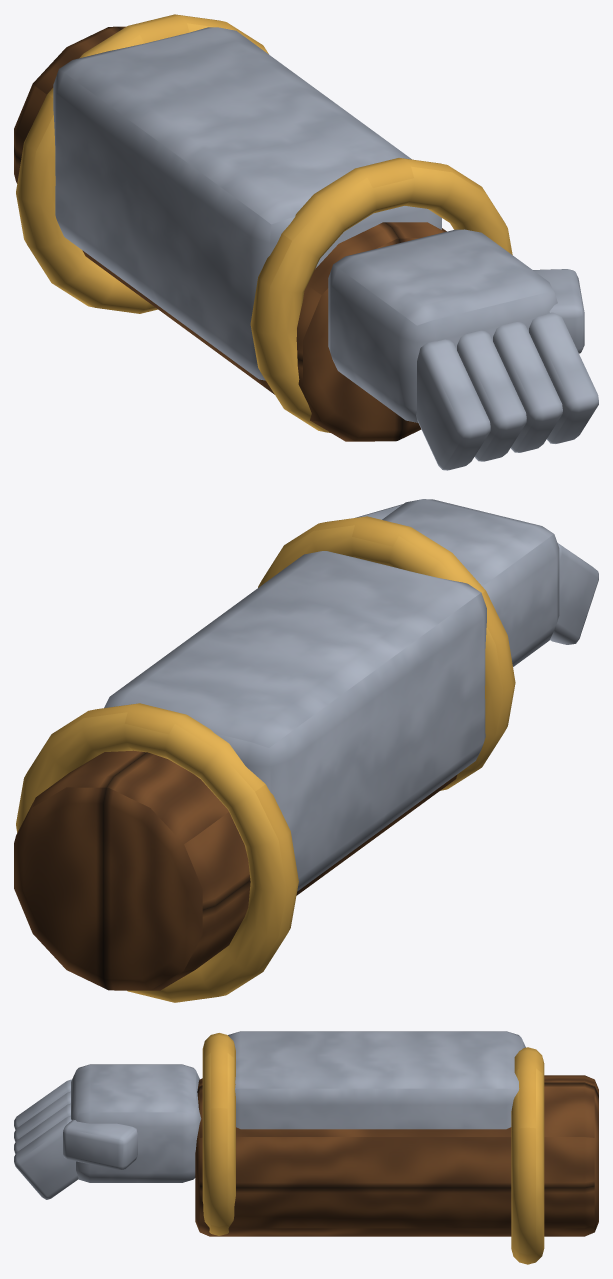
Rendered from fp_gauntlet_left.glb.
3 views of the same model, one above another, from view 1: azimuth 30°, elevation 25°; view 2: azimuth 150°, elevation 25°; view 3: azimuth 270°, elevation 25° (orthographic). The views are drawn at different scales.
Visible parts, largest first — view 1: Vambrace, HandBack, CuffTrim, ForearmSleeve, ElbowTrim, Finger0, Finger1, Finger2, Finger3, Thumb; view 2: Vambrace, ForearmSleeve, ElbowTrim, HandBack, CuffTrim, Finger0; view 3: ForearmSleeve, Vambrace, HandBack, ElbowTrim, CuffTrim, Thumb, Finger3, Finger0, Finger2, Finger1.
Part boxes in pixels (x1,y1,x2,y2): Vambrace: (53, 27, 441, 380); HandBack: (328, 229, 557, 422); CuffTrim: (250, 158, 512, 432); ForearmSleeve: (14, 26, 446, 441); ElbowTrim: (16, 14, 268, 313); Finger0: (416, 339, 490, 470); Finger1: (457, 330, 526, 461); Finger2: (493, 322, 562, 452); Finger3: (529, 312, 598, 443); Thumb: (533, 269, 584, 353); Vambrace: (104, 551, 486, 891); ForearmSleeve: (14, 750, 457, 990); ElbowTrim: (16, 703, 298, 1002); HandBack: (382, 499, 559, 666); CuffTrim: (258, 516, 515, 790); Finger0: (550, 543, 598, 644); ForearmSleeve: (195, 1075, 598, 1236); Vambrace: (228, 1031, 525, 1129); HandBack: (71, 1064, 201, 1182); ElbowTrim: (511, 1047, 544, 1264); CuffTrim: (202, 1033, 235, 1235); Thumb: (63, 1119, 137, 1169); Finger3: (14, 1116, 78, 1199); Finger0: (14, 1079, 71, 1129); Finger2: (14, 1103, 70, 1153); Finger1: (14, 1091, 70, 1141).
Bounding box in the file's own units: 0.184 × 0.1953 × 0.4929.
4 materials, 4 textured.
